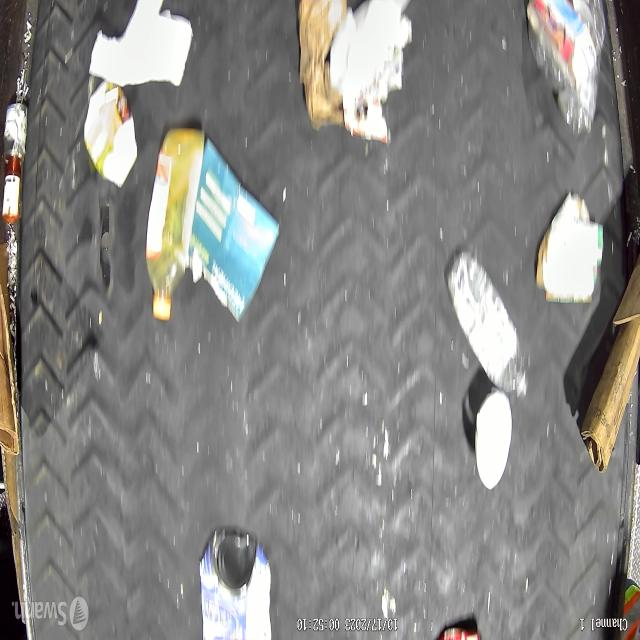can: (199, 529, 272, 640), (4, 102, 28, 165)
plastic_bottle: (447, 252, 528, 398), (144, 128, 201, 318)
